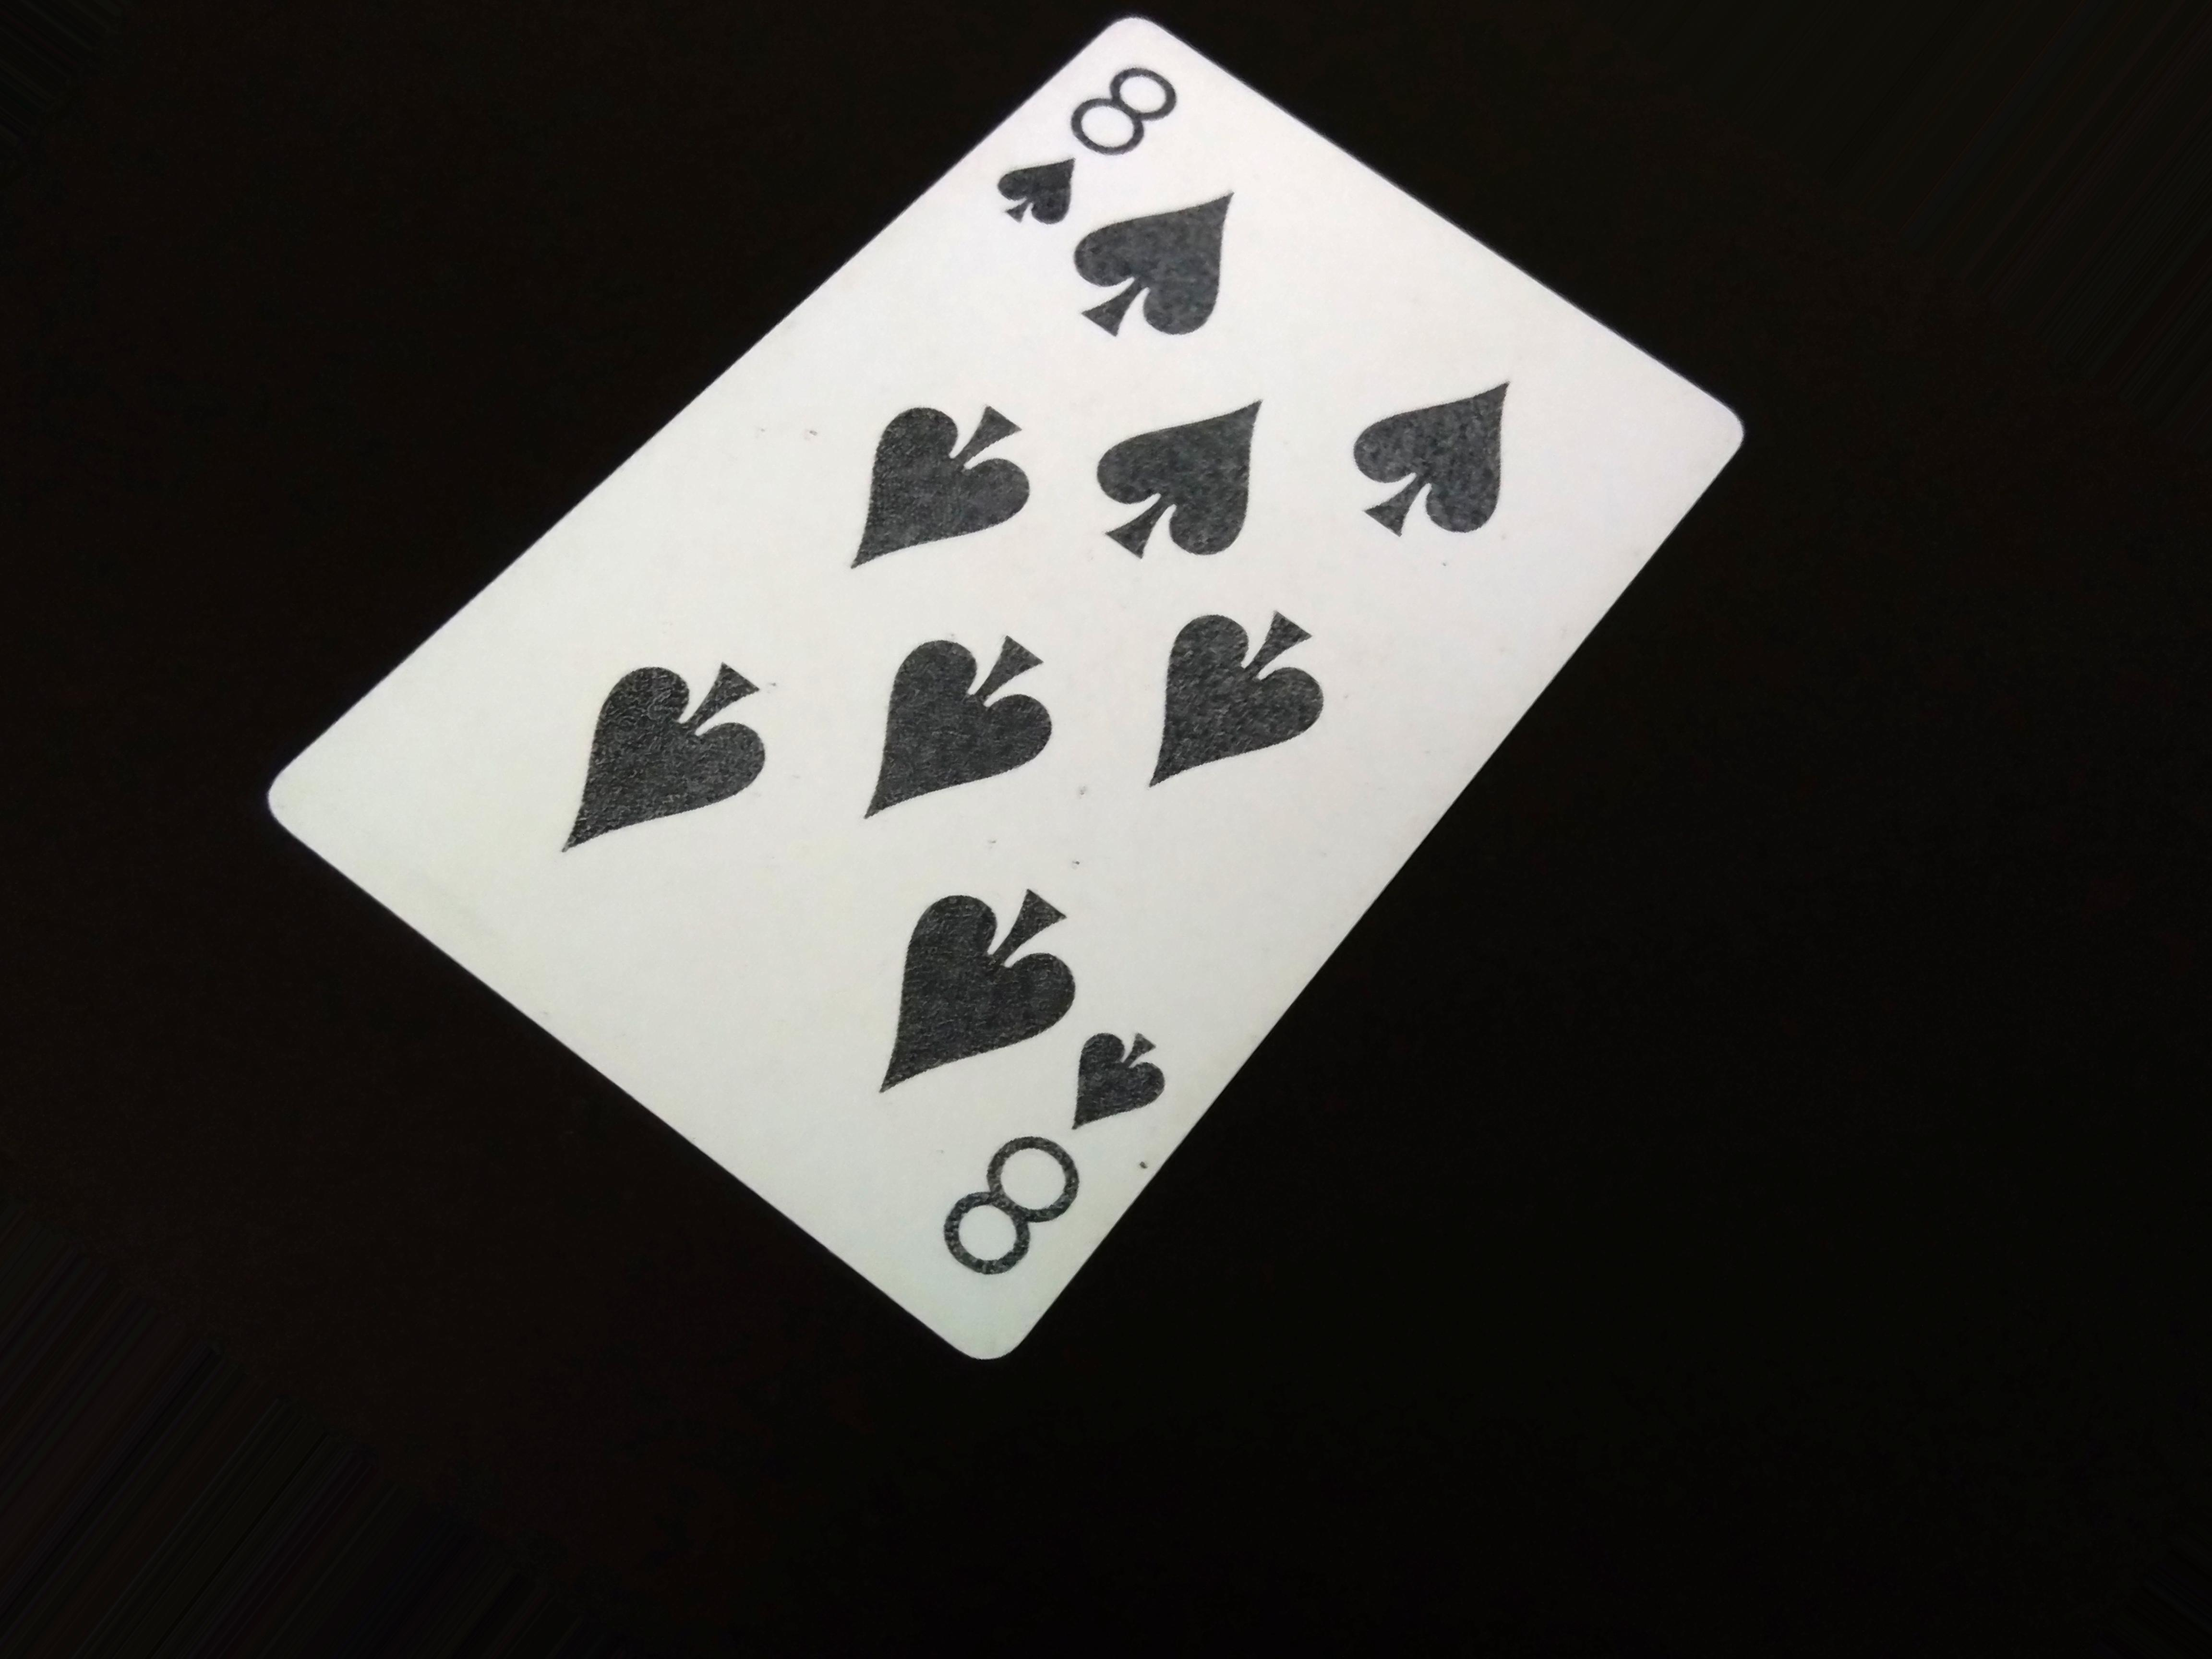8S: (925, 1033, 1207, 1274)
